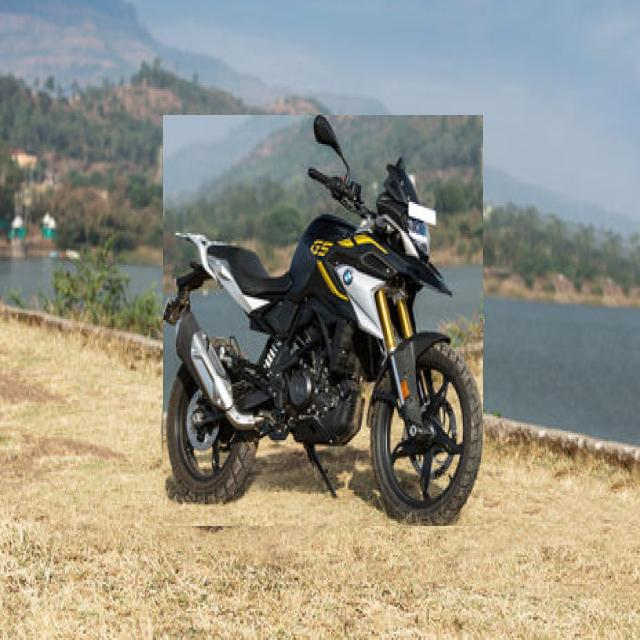motorcycle: (163, 116, 482, 526)
